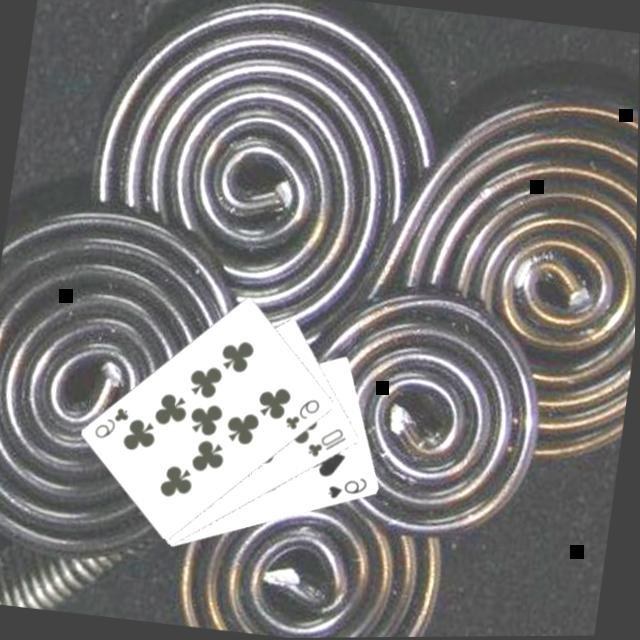10C: (303, 419, 351, 462)
6S: (324, 469, 371, 504)
9C: (281, 391, 323, 434), (91, 399, 133, 442)
